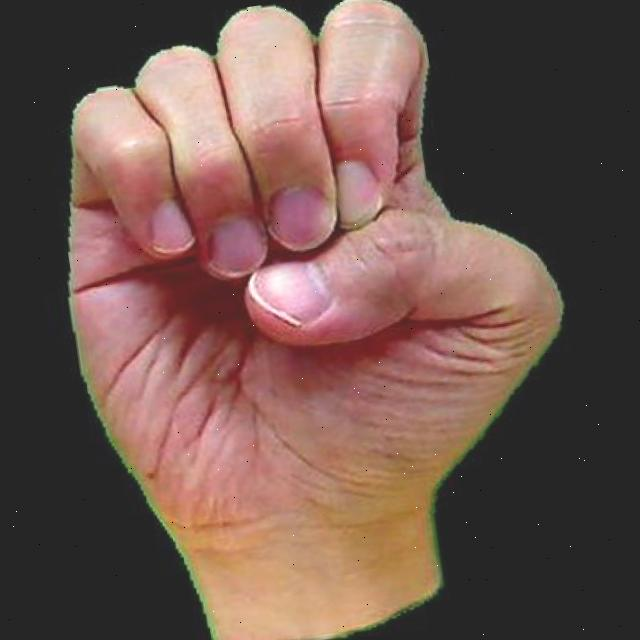e: (6, 0, 615, 640)
